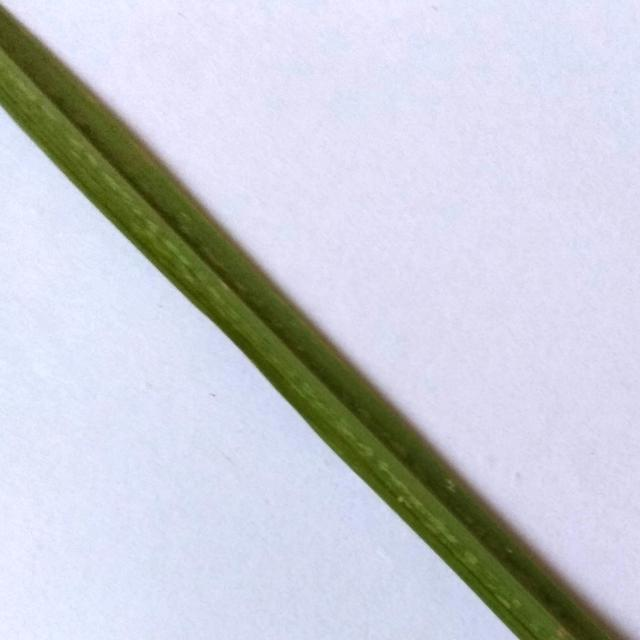Rice_Healthy: (0, 5, 626, 640)
